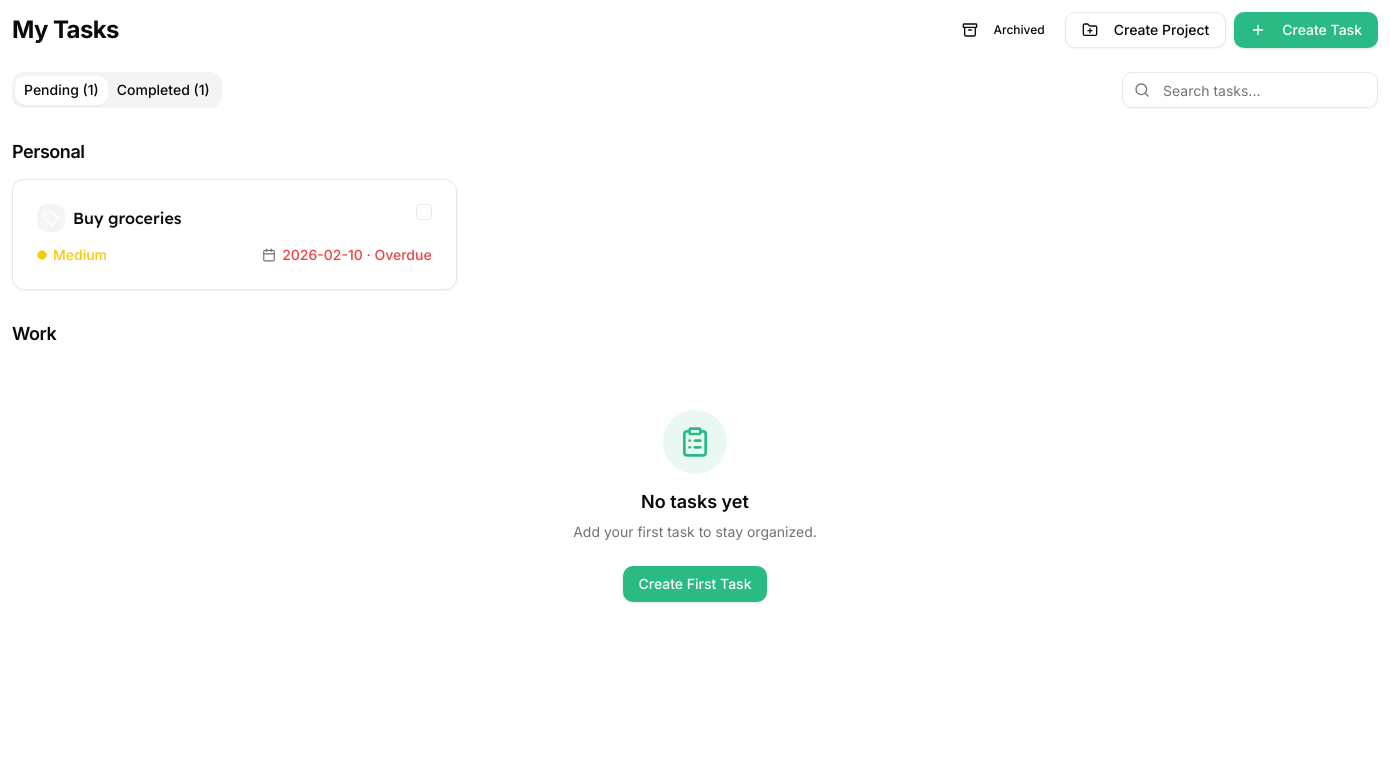
Test: TasksPageContent › switching to Completed tab shows completed tasks and hides pending tasks
The width and height of the screenshot is (1390, 780).
Check: the heading "Buy groceries" is shown, box [73,206,182,230]
Check: the text "Finish report" is not shown
Click the tab "Completed (1)" at point(163, 90), box [108,76,219,104]
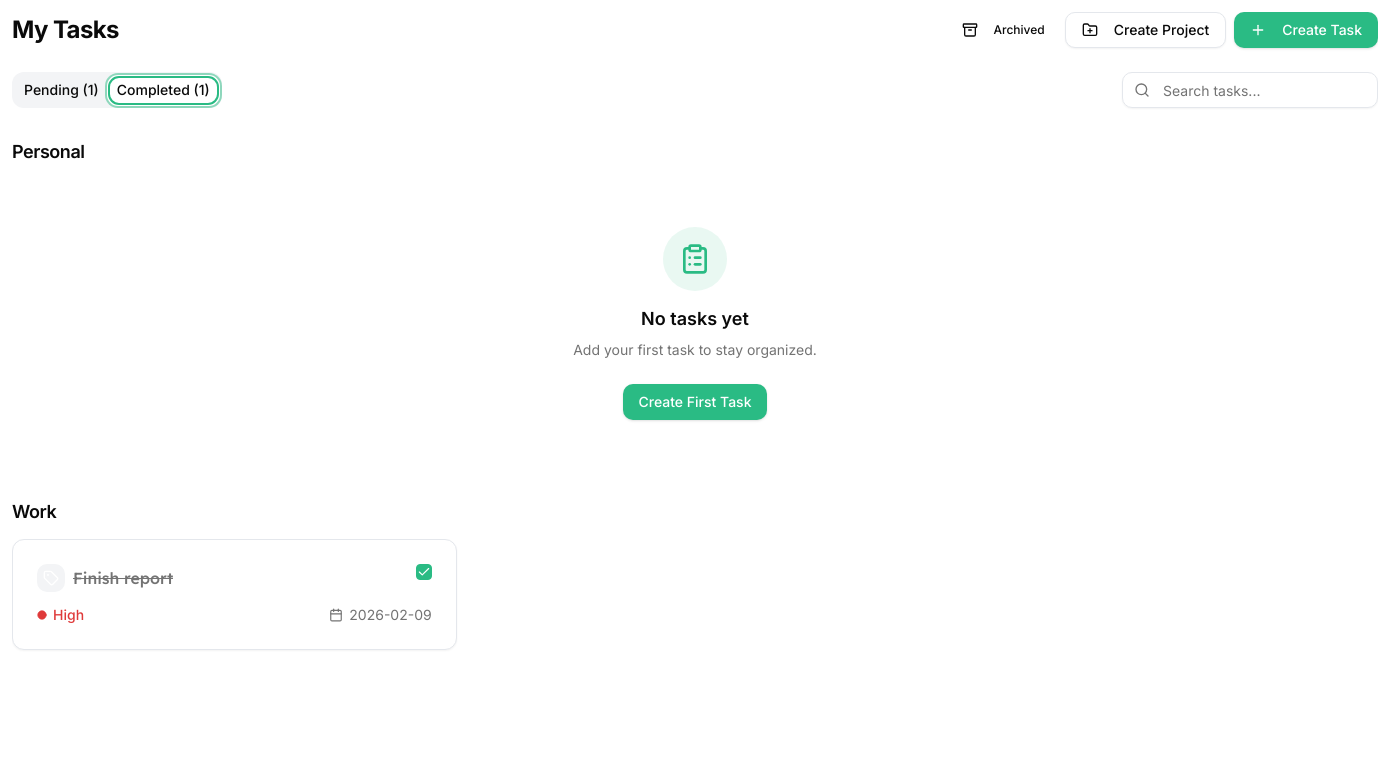
Check: the heading "Finish report" is shown, box [73,566,173,590]
Check: the button "Buy groceries" is gone
